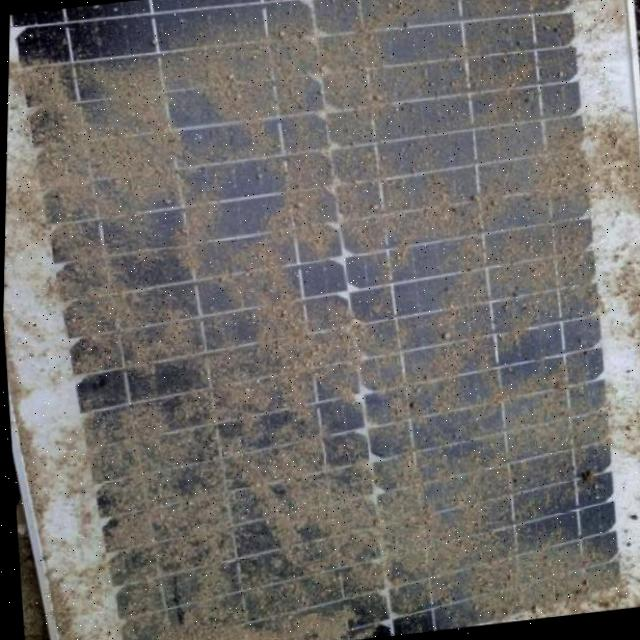Surface Contaminant: (41, 0, 640, 640)
